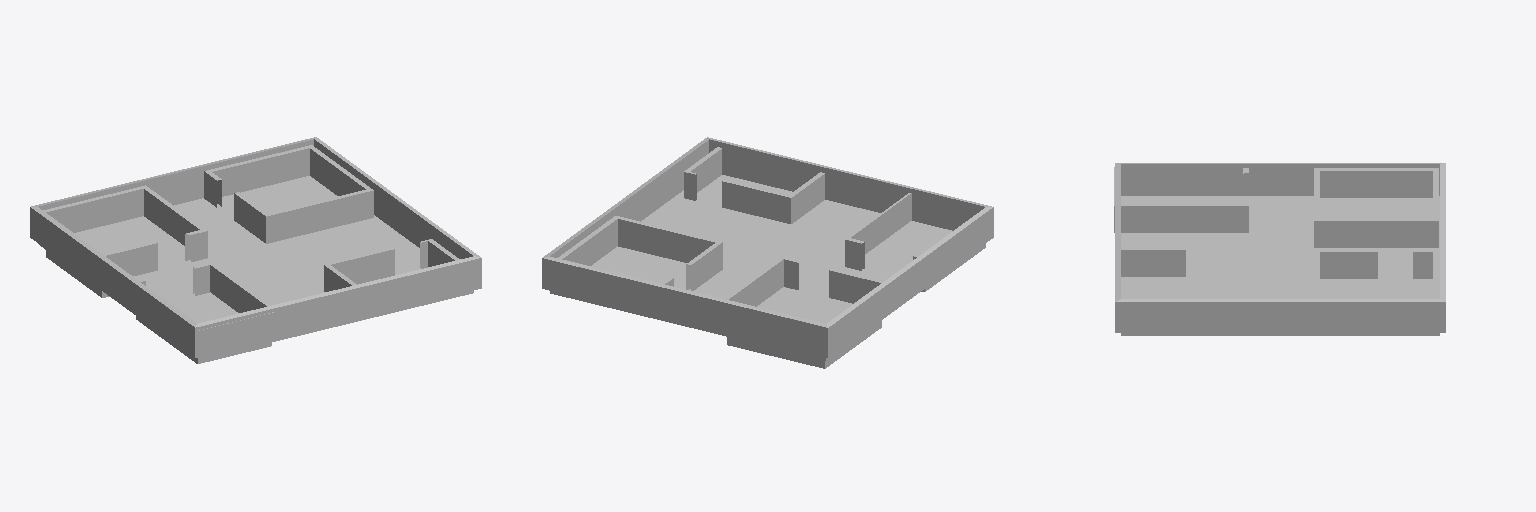
Rendered from SM_Paredes.obj.
3 renders of one model, left to right at view 1: azimuth 30°, elevation 25°; view 2: azimuth 150°, elevation 25°; view 3: azimuth 270°, elevation 25°, orthographic.
Visible parts, largest first — view 1: SM_Paredes:Mesh; view 2: SM_Paredes:Mesh; view 3: SM_Paredes:Mesh.
Boxes of the visible parts, x1=… form: SM_Paredes:Mesh: x1=30, y1=137, x2=481, y2=363; SM_Paredes:Mesh: x1=542, y1=137, x2=993, y2=368; SM_Paredes:Mesh: x1=1114, y1=163, x2=1445, y2=335.
Size of the model in its own units: 199 by 32.47 by 199.